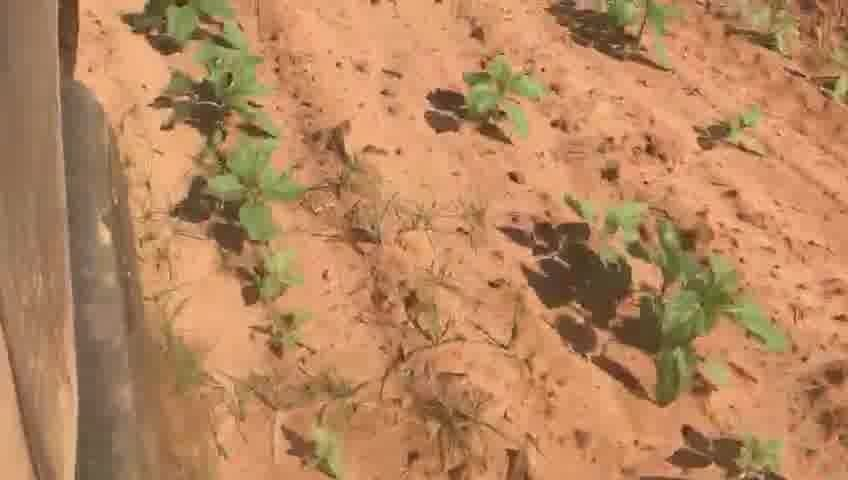sunflower: (631, 231, 785, 393), (153, 52, 280, 149), (543, 191, 651, 290), (199, 144, 297, 244), (454, 53, 544, 144), (677, 429, 796, 477), (137, 3, 249, 52), (230, 243, 303, 305), (253, 300, 316, 360), (286, 417, 350, 472), (706, 104, 775, 148)
